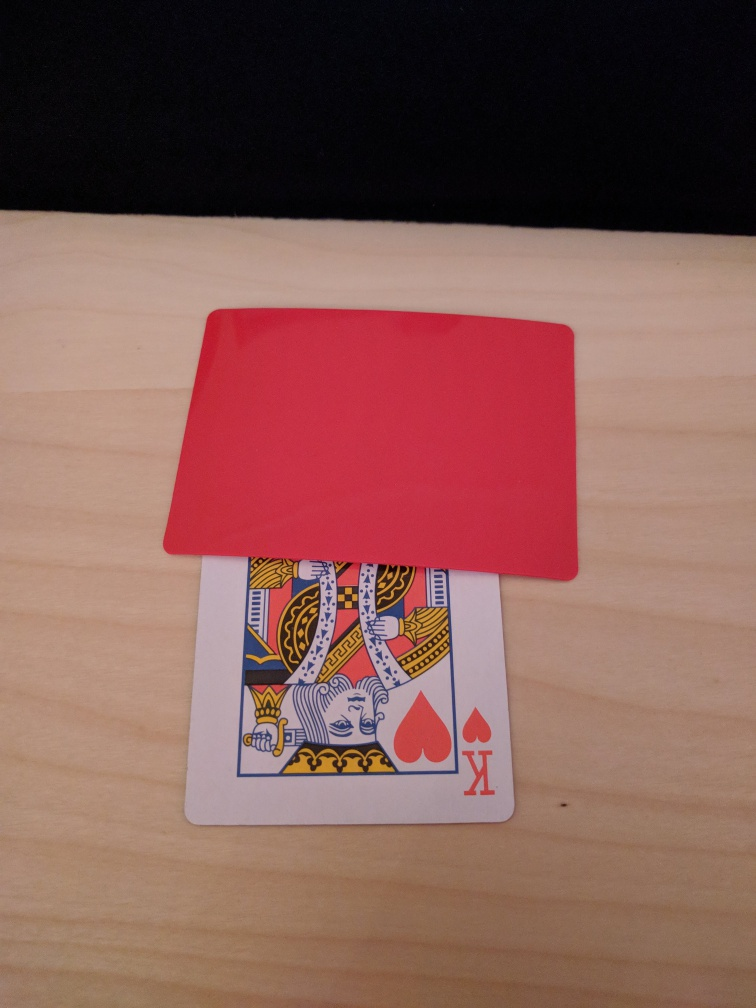king: (183, 554, 517, 827)
